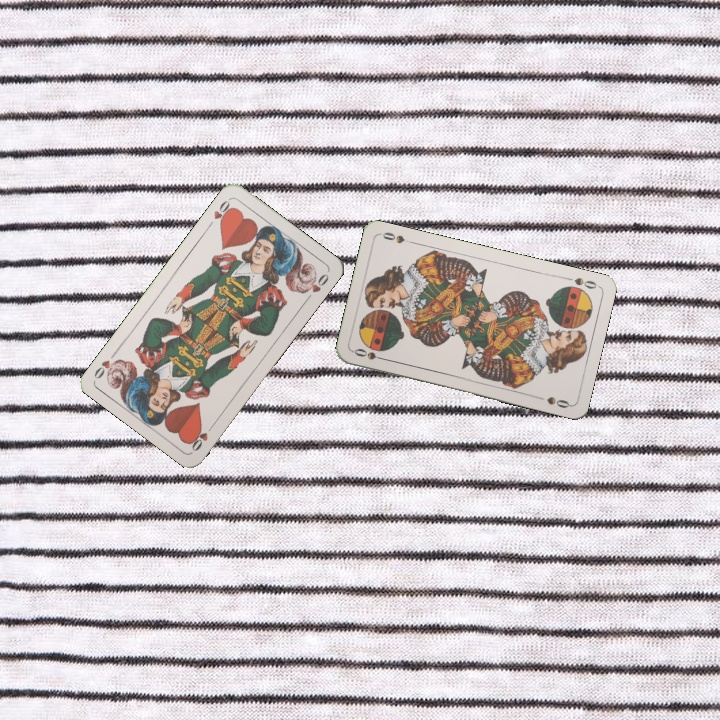HO: (204, 195, 236, 230), (186, 419, 217, 454)
SO: (349, 344, 390, 363), (561, 273, 601, 291)
